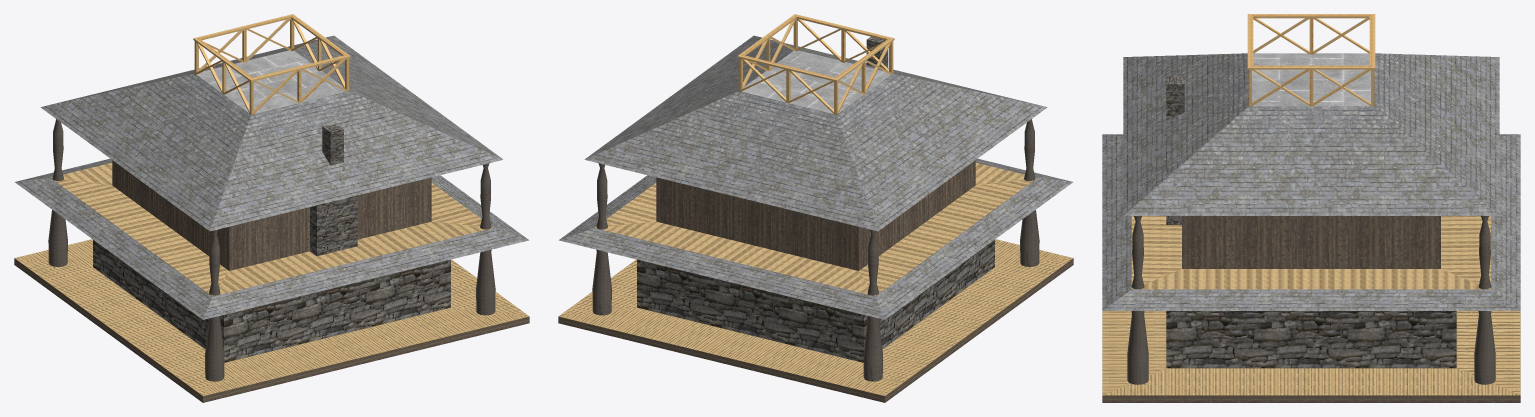
Rendered from SM_House_10m-sq_FancyStone.fbx.
3 views of the same model, side by side, from view 1: azimuth 30°, elevation 25°; view 2: azimuth 150°, elevation 25°; view 3: azimuth 270°, elevation 25° (orthographic). The views are drawn at different scales.
Visible parts, largest first — view 1: SM_House_10m-sq_FancyStone_LOD-A; view 2: SM_House_10m-sq_FancyStone_LOD-A; view 3: SM_House_10m-sq_FancyStone_LOD-A.
Part boxes in pixels (x1,y1,x2,y2): SM_House_10m-sq_FancyStone_LOD-A: [14, 14, 529, 402]; SM_House_10m-sq_FancyStone_LOD-A: [558, 14, 1073, 402]; SM_House_10m-sq_FancyStone_LOD-A: [1102, 14, 1520, 402].
Size of the model in its own units: 1000 by 723 by 1000.
